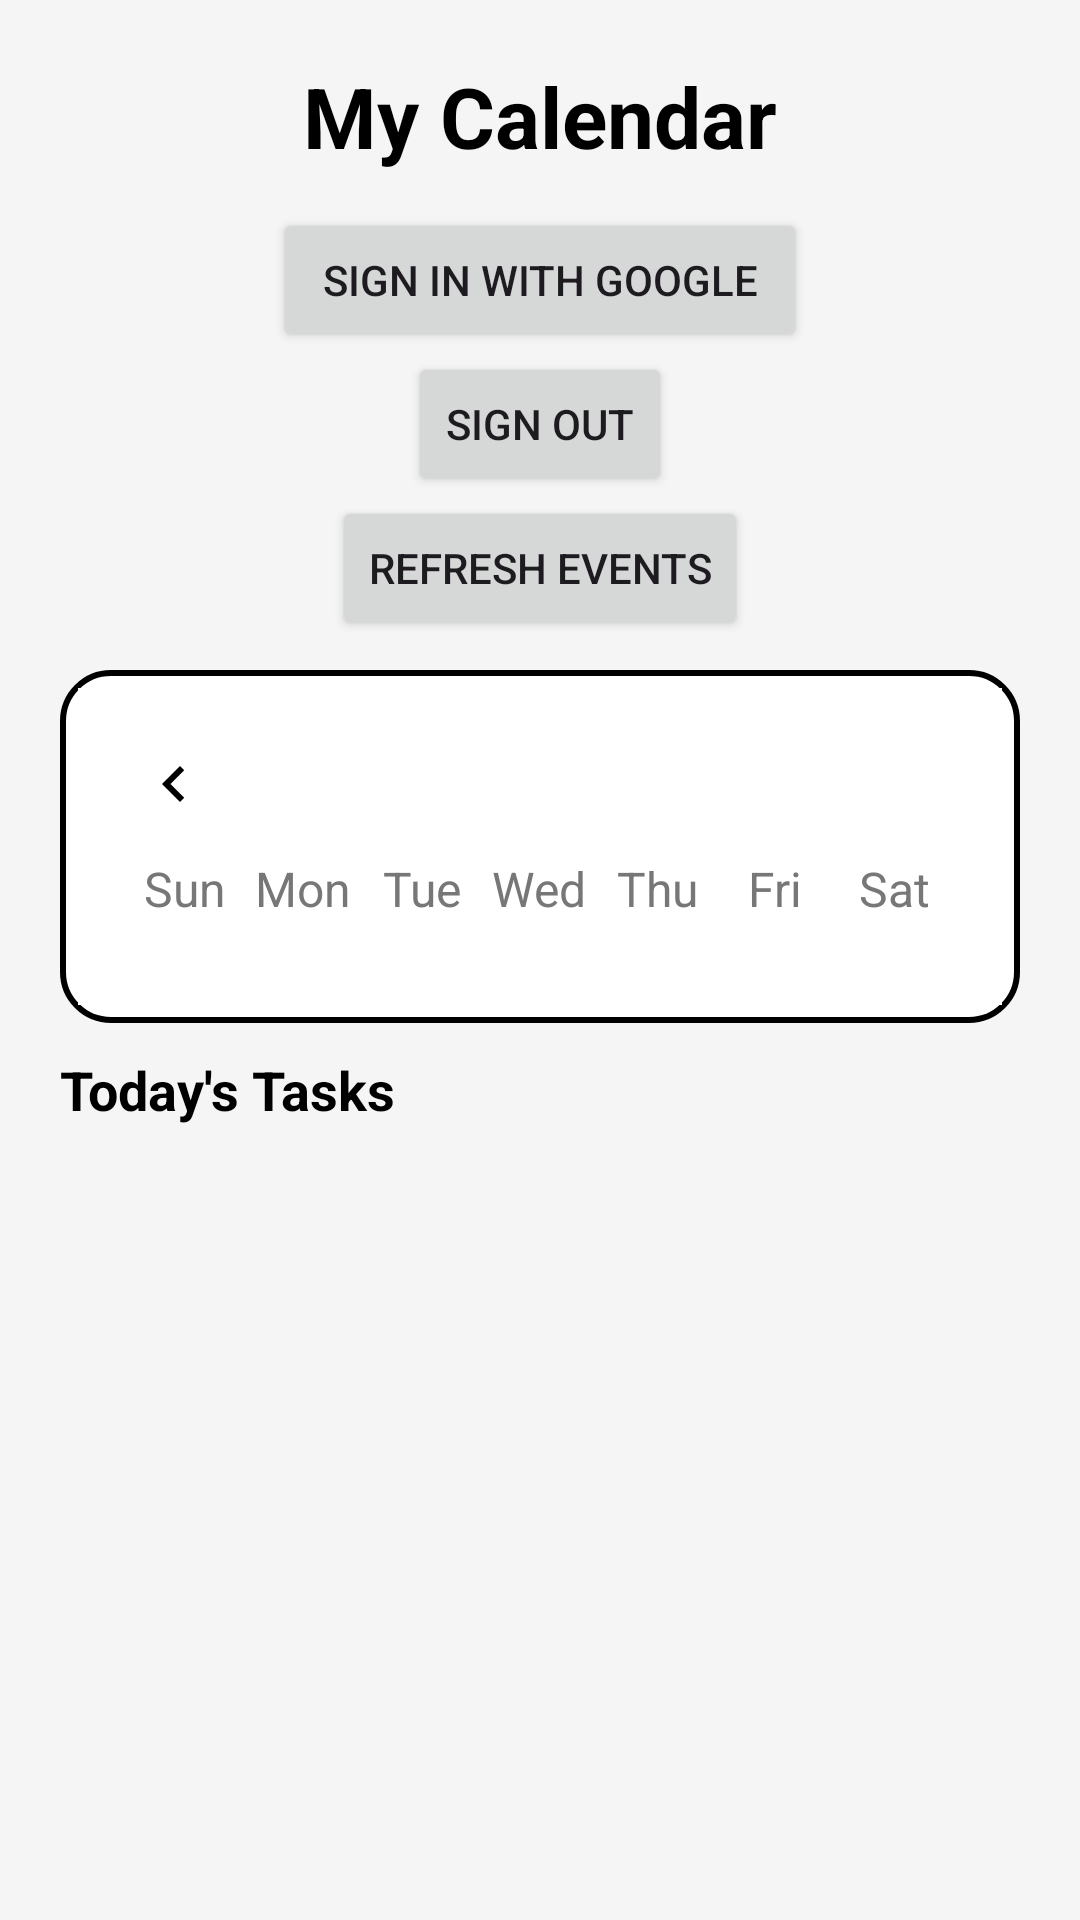

Locate icon controls on the screen. Image size 1080 × 1920, boxes as bbox=(x1, y1, x2, y2).
chevron left: bbox=(162, 766, 184, 802)
